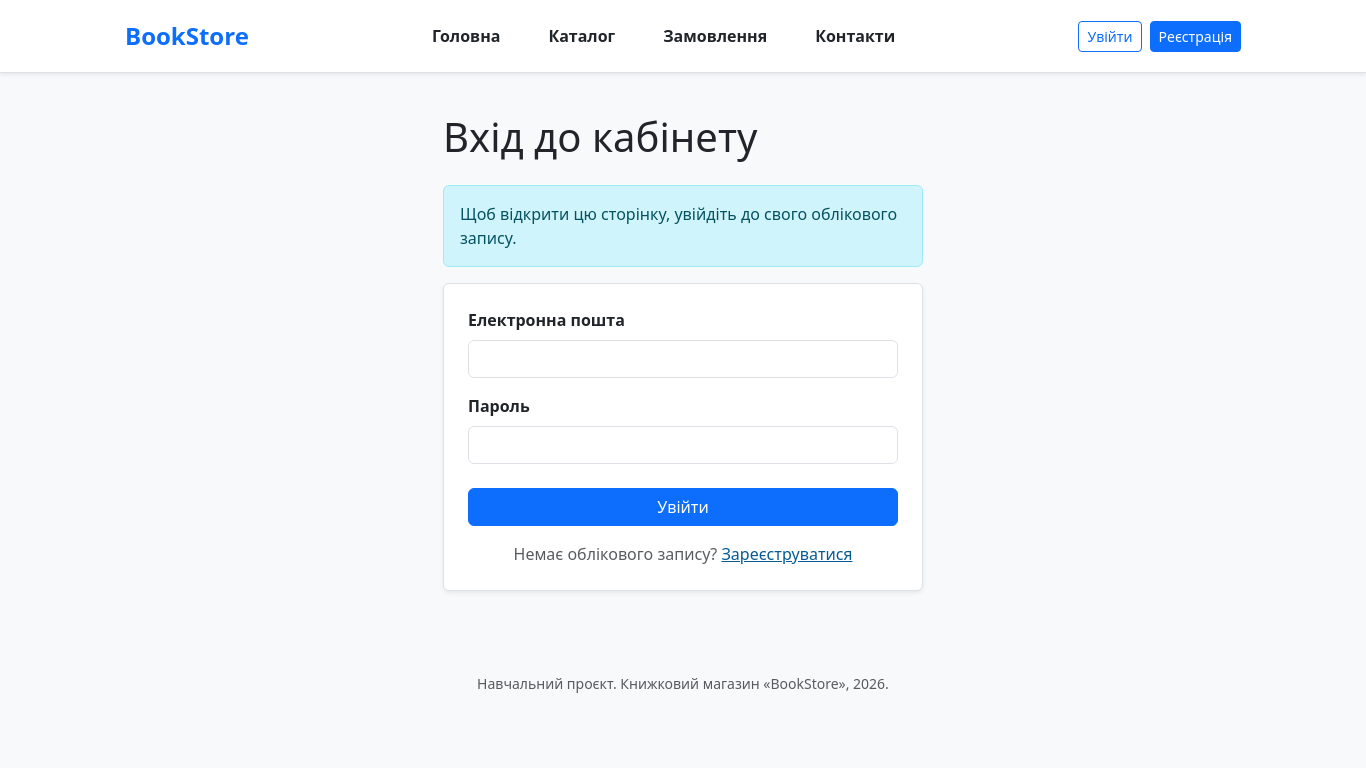
Автентифікація, захищені маршрути та контакти › показує помилку при хибному паролі та впускає з правильними даними демо-користувача
Type "demo@bookstore.test" into the field labelled "Електронна пошта" at (683, 359), box [468,340,898,378]
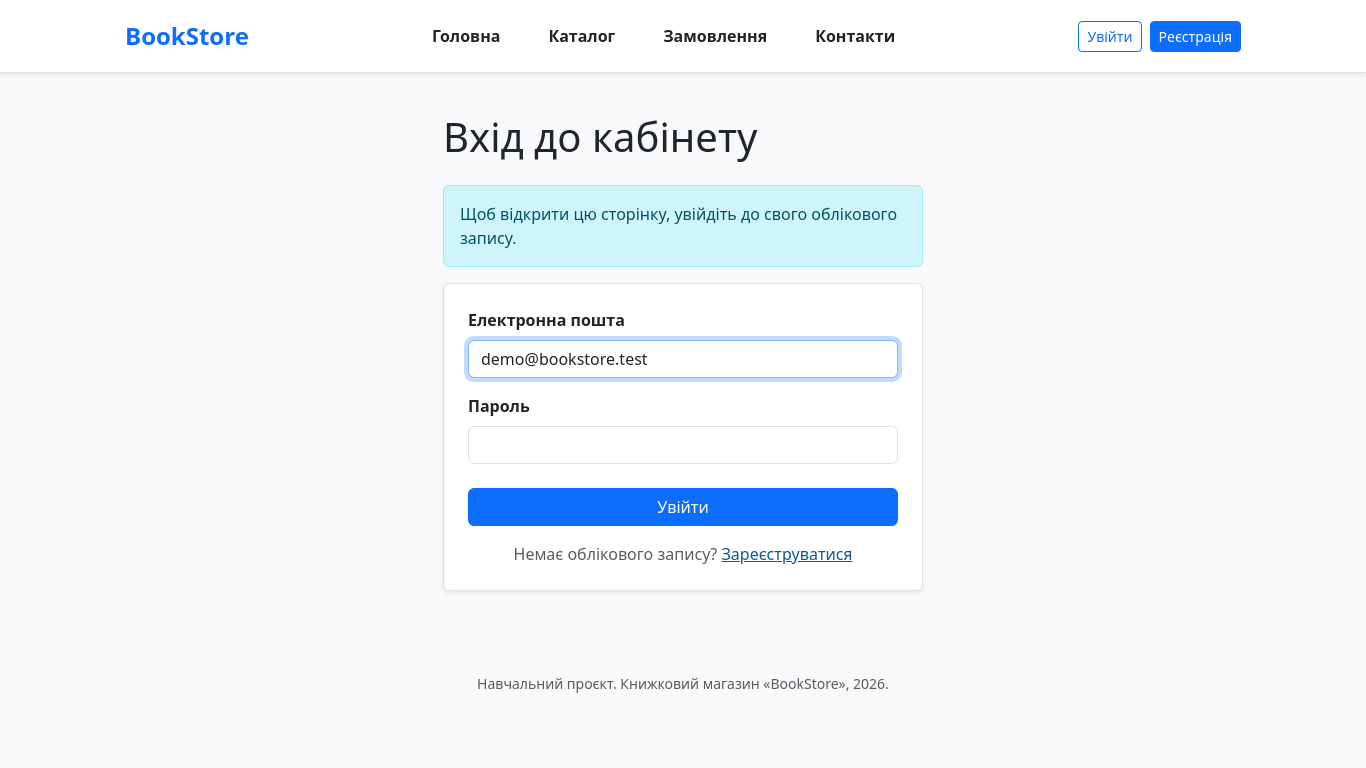
Type "wrong-password1" into the password field labelled "Пароль" at (683, 445), box [468,426,898,464]
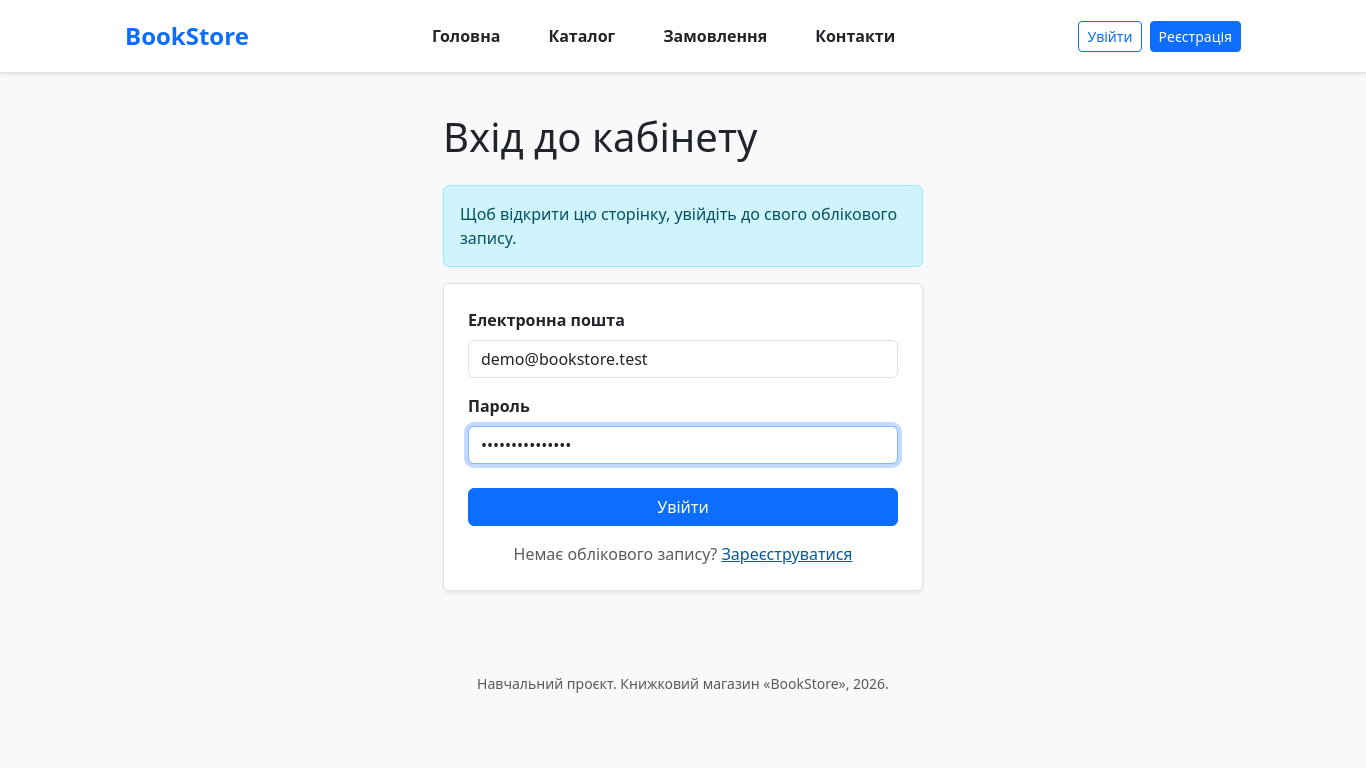
Click the button "Увійти" at (683, 507), box [468,488,898,526]
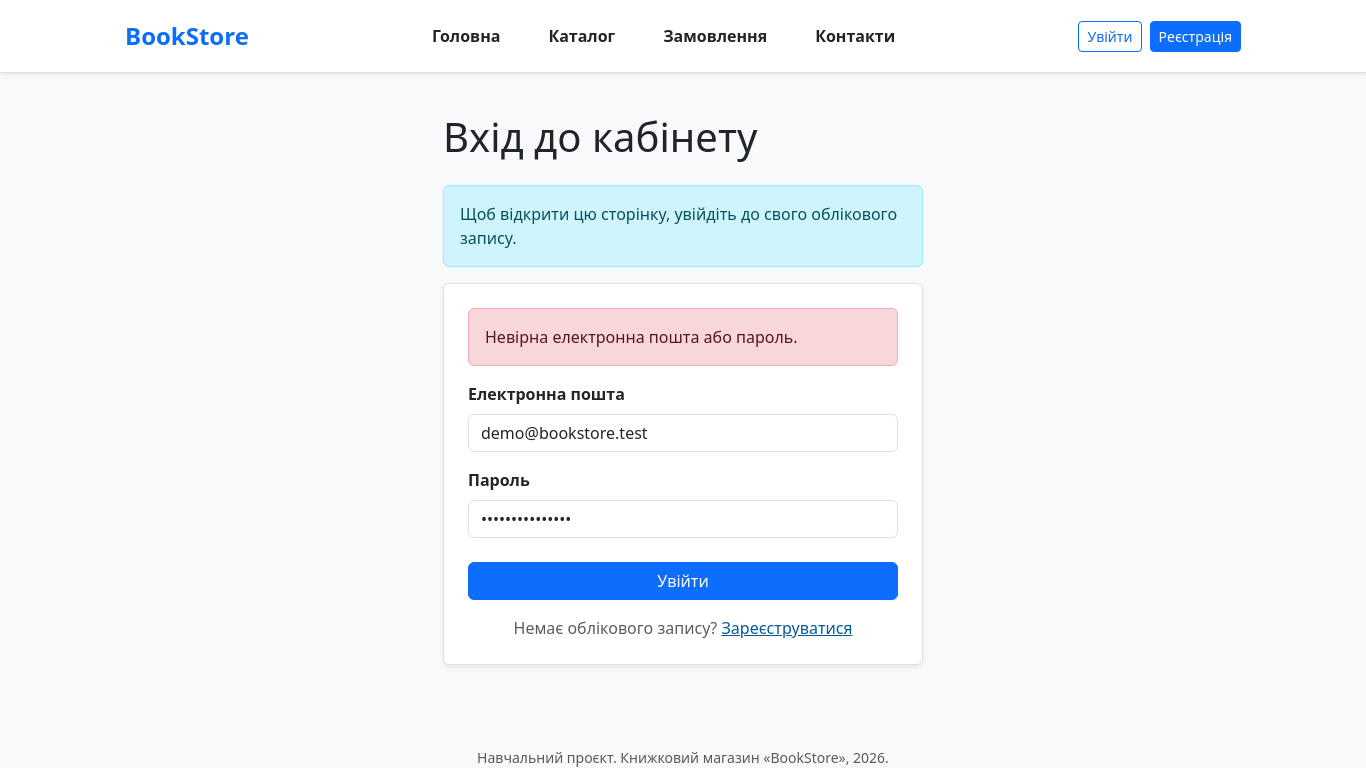
Expected: the text "Невірна електронна пошта або пароль." is shown, [468,308,898,366]
Clear the password field labelled "Пароль" at (683, 519), box [468,500,898,538]
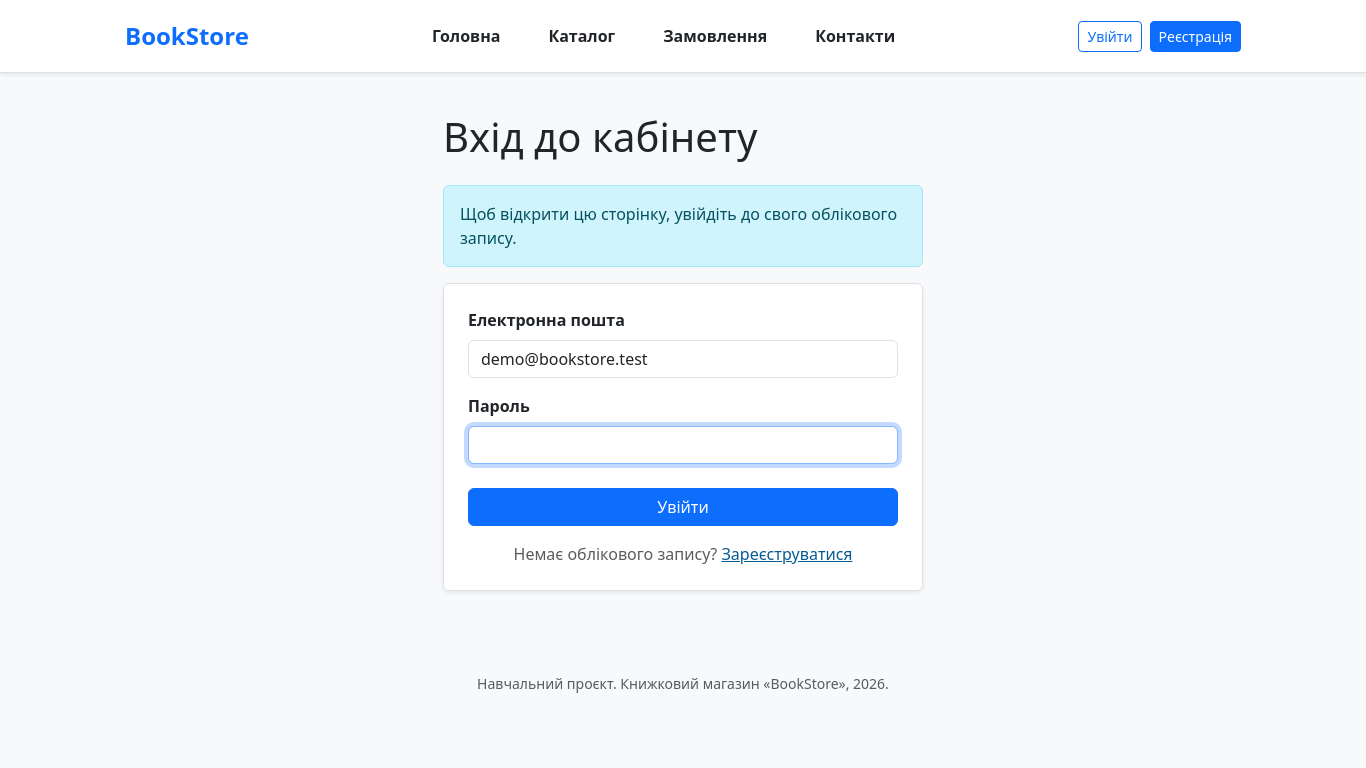
Type "Bookstore2026" into the password field labelled "Пароль" at (683, 445), box [468,426,898,464]
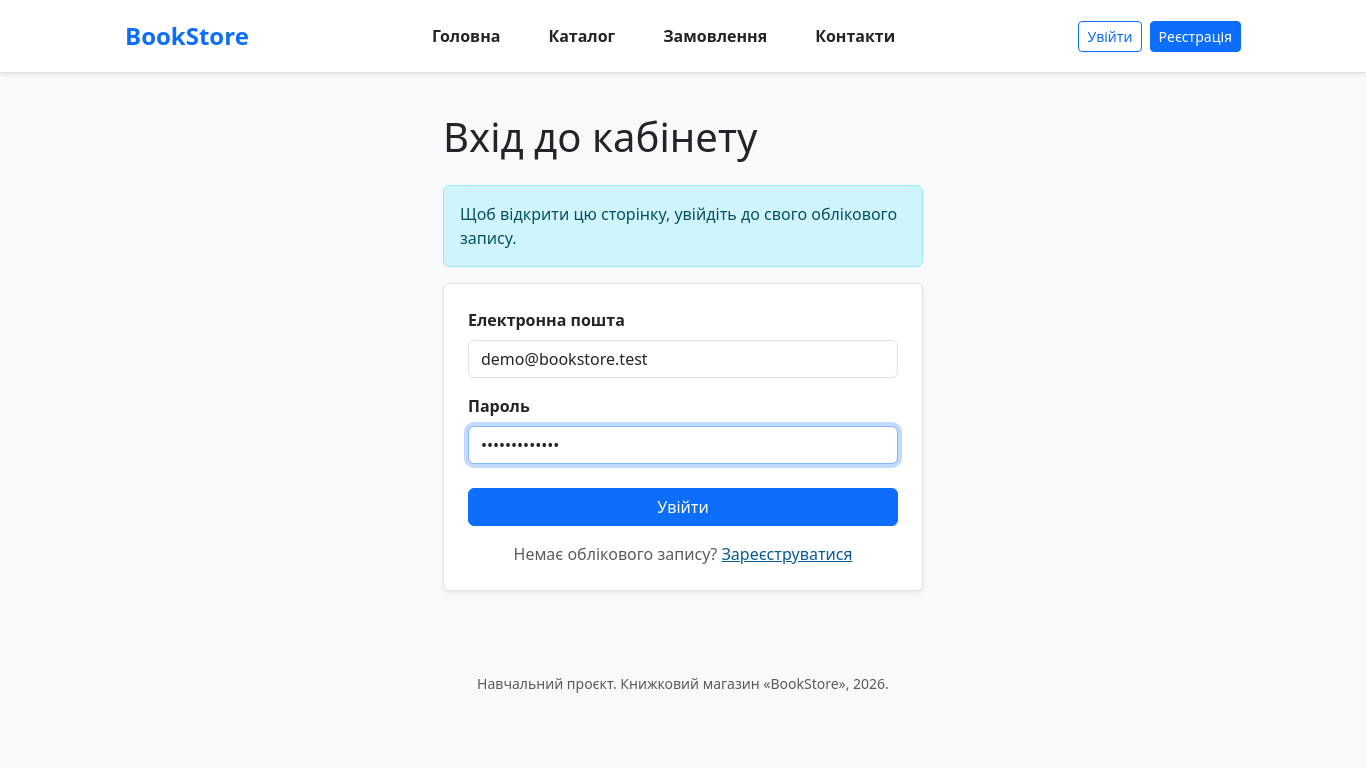
Click the button "Увійти" at (683, 507), box [468,488,898,526]
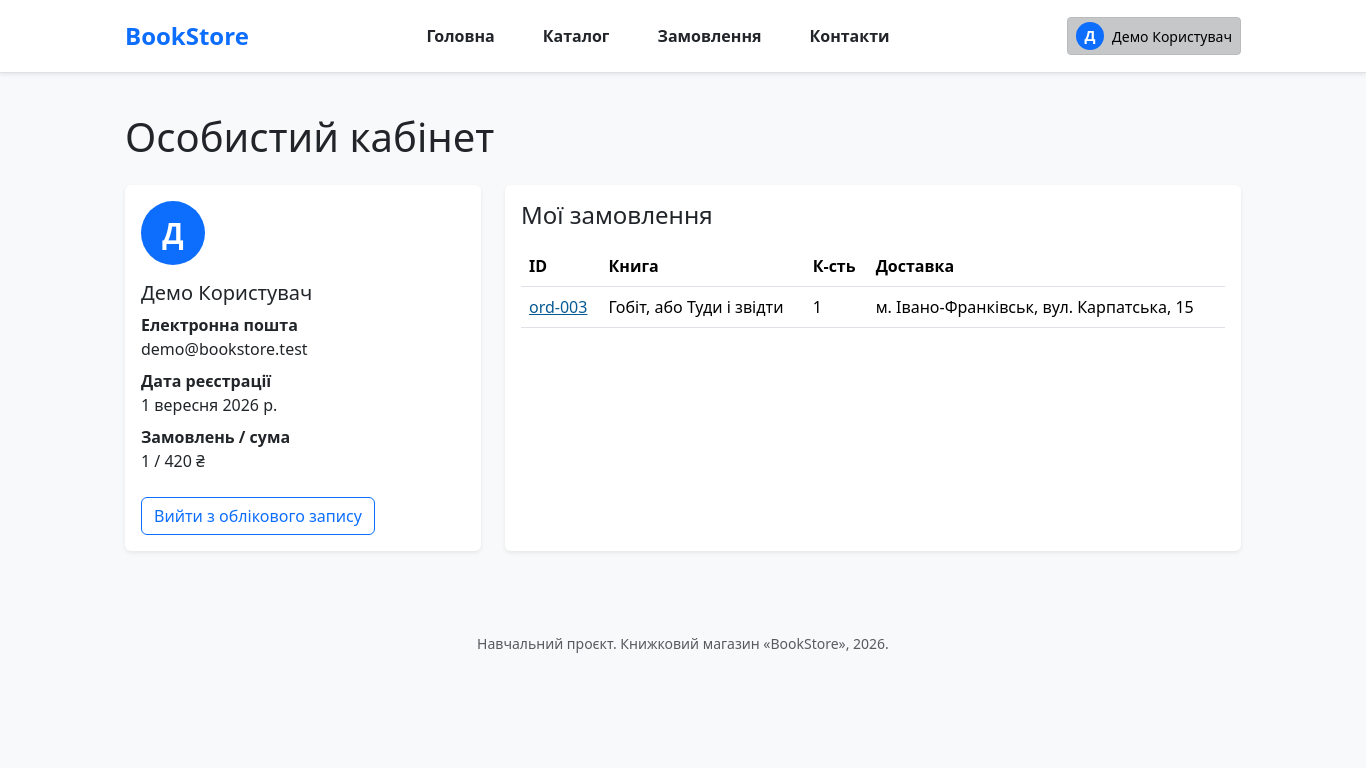
Expected: the heading "Особистий кабінет" is shown, [125,109,494,164]
Expected: the text "demo@bookstore.test" is shown, [141,338,308,360]
Expected: the link "ord-003" is shown, [529,296,587,318]
